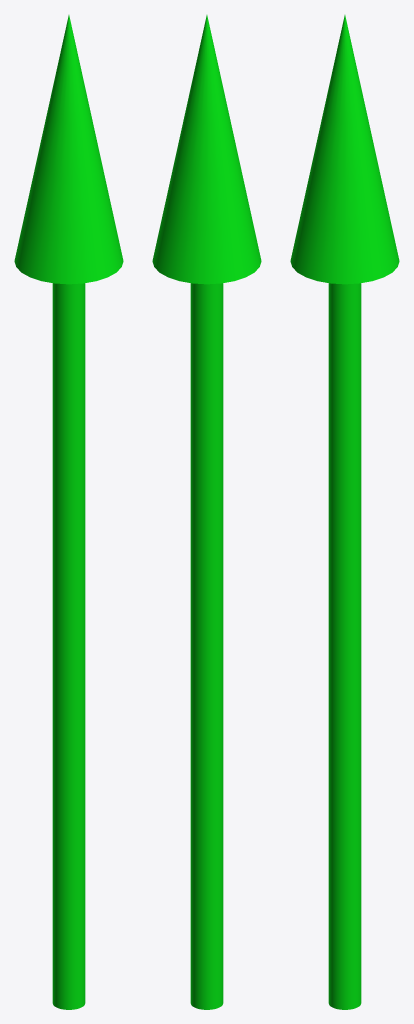
Rendered from SquareAndArrowNew20cm.FBX.
3 renders of one model, left to right at view 1: azimuth 30°, elevation 25°; view 2: azimuth 210°, elevation 25°; view 3: azimuth 270°, elevation 25°, orthographic.
Visible parts, largest first — view 1: Cone003, Cone002; view 2: Cone003, Cone002; view 3: Cone003, Cone002.
Boxes of the visible parts, x1,y1,x2,y2 form: Cone003: (52, 283, 85, 1009); Cone002: (14, 15, 123, 284); Cone003: (190, 283, 223, 1009); Cone002: (152, 15, 261, 284); Cone003: (328, 283, 361, 1009); Cone002: (290, 15, 399, 284).
Size of what is drawn, in the model's own units: 2 by 20 by 2.
